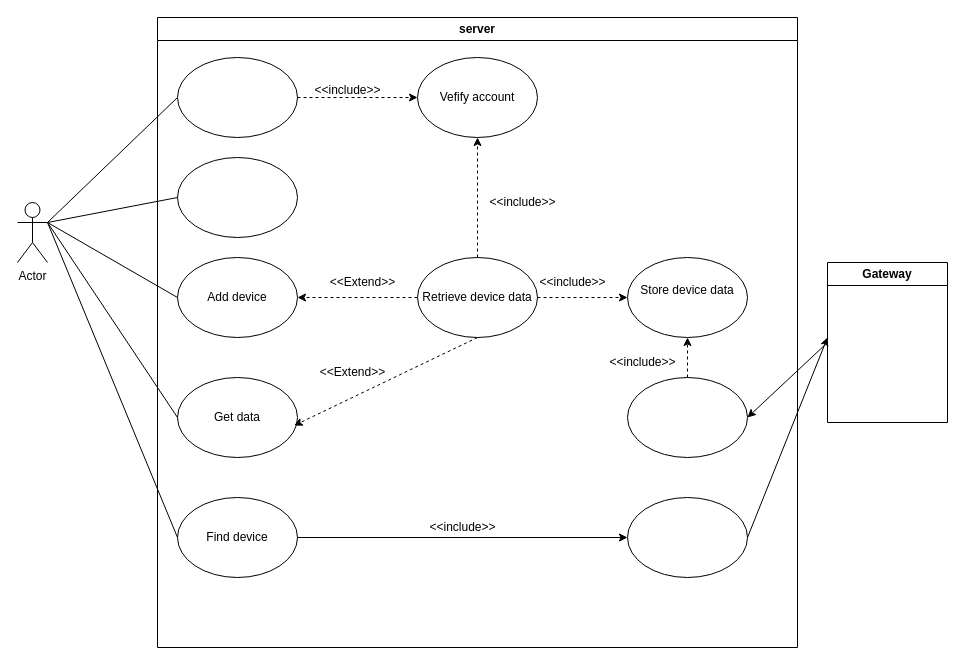
Image size: 965x665. Some labels were removed from this diagram. Each missing label, with the centre of its shape:
"Login" goes at (237,97).
"Logout" goes at (237,197).
"Receive data from Gateway" goes at (687,417).
"Send command to Gateway" goes at (687,537).
